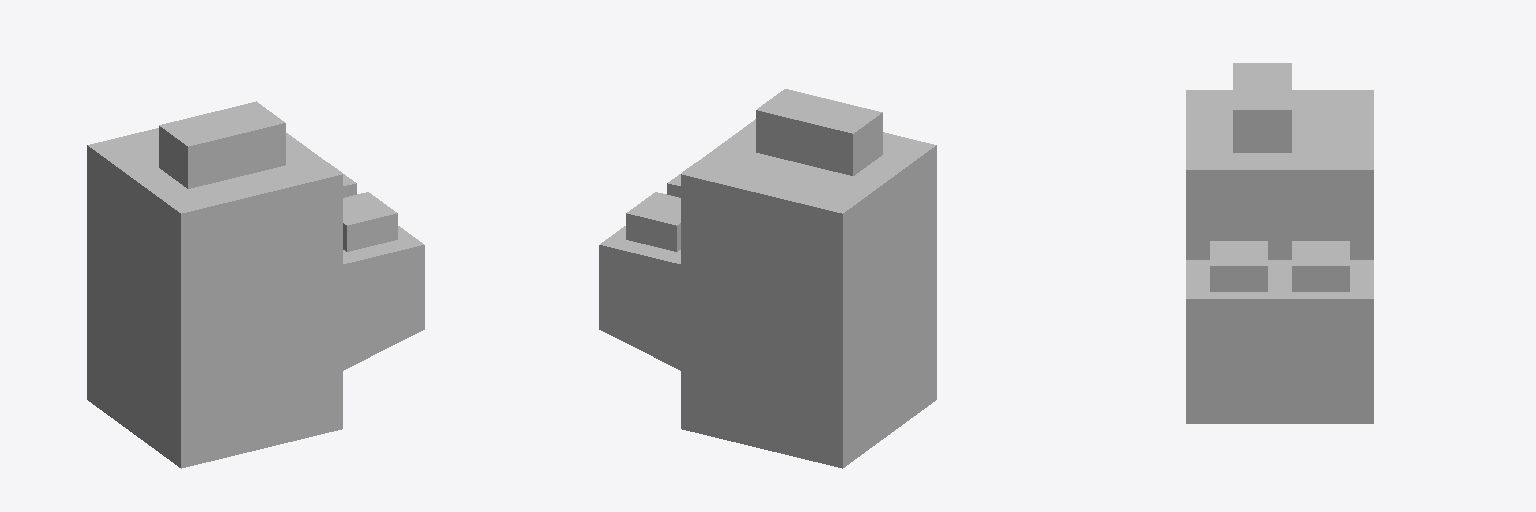
The model's file is um_photolithography_machine_mirrored.obj.
The picture shows the model from 3 angles: view 1: azimuth 30°, elevation 25°; view 2: azimuth 150°, elevation 25°; view 3: azimuth 270°, elevation 25°; orthographic projection.
Visible parts, largest first — view 1: cube; view 2: cube; view 3: cube.
Part boxes in pixels (left/top/right/bottom): cube: left=87, top=101, right=424, bottom=468; cube: left=599, top=89, right=936, bottom=468; cube: left=1186, top=63, right=1373, bottom=423.
Bounding box in the file's own units: 3 × 3.5 × 2.